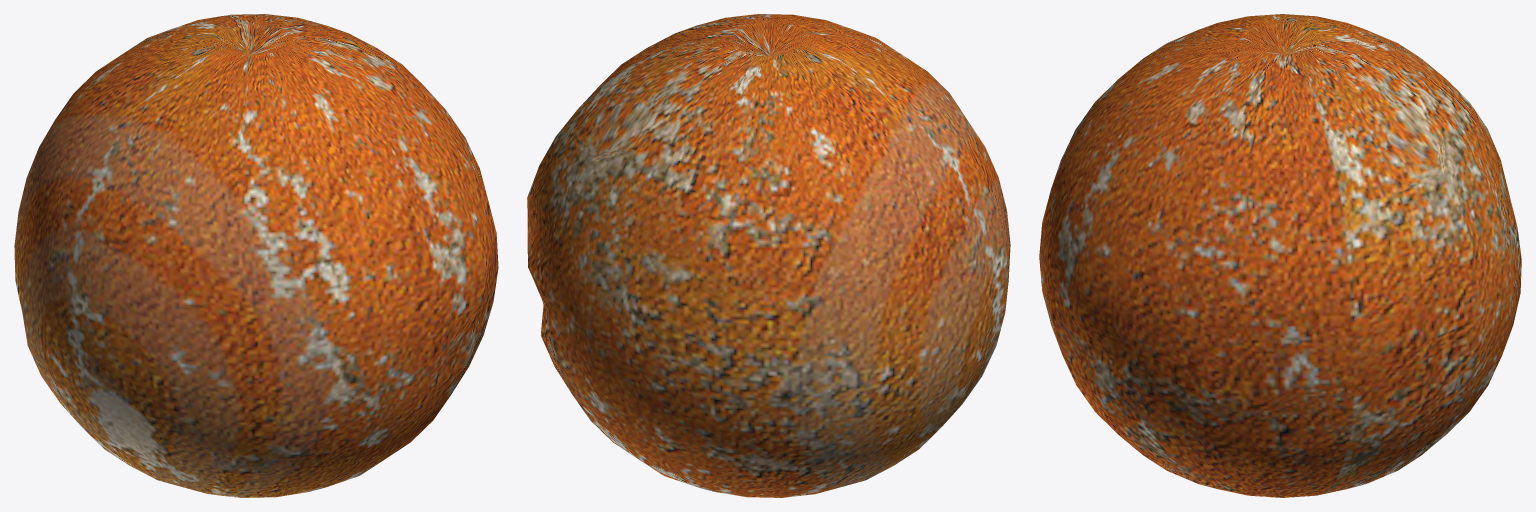
The model's file is orange 1.fbx.
3 renders of one model, left to right at view 1: azimuth 30°, elevation 25°; view 2: azimuth 150°, elevation 25°; view 3: azimuth 270°, elevation 25°, orthographic.
Visible parts, largest first — view 1: pSphere1; view 2: pSphere1; view 3: pSphere1.
Boxes of the visible parts, x1,y1,x2,y2 form: pSphere1: [14, 14, 498, 497]; pSphere1: [527, 14, 1010, 497]; pSphere1: [1039, 14, 1521, 497].
Bounding box in the file's own units: 14.32 × 13.55 × 14.29.
Materials: 1 (1 with a texture image).
